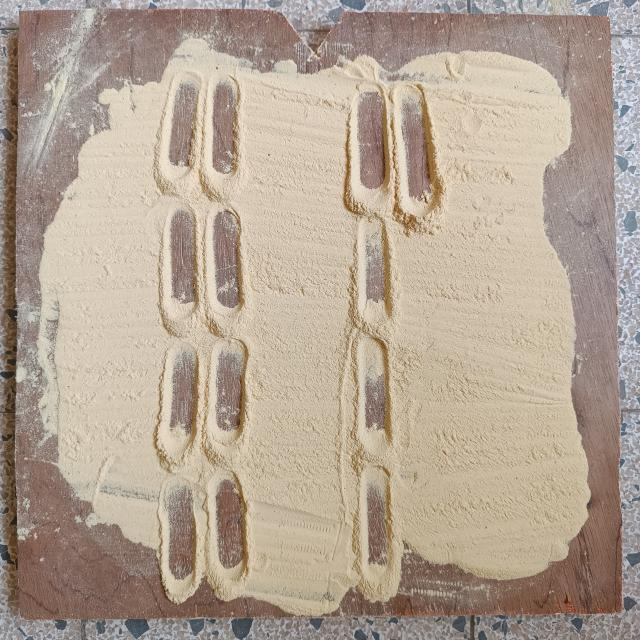double: (344, 82, 440, 220), (156, 338, 256, 461), (160, 470, 252, 598), (156, 205, 248, 331), (157, 74, 248, 192)
single: (356, 466, 400, 592), (352, 218, 398, 332), (353, 336, 396, 456)
